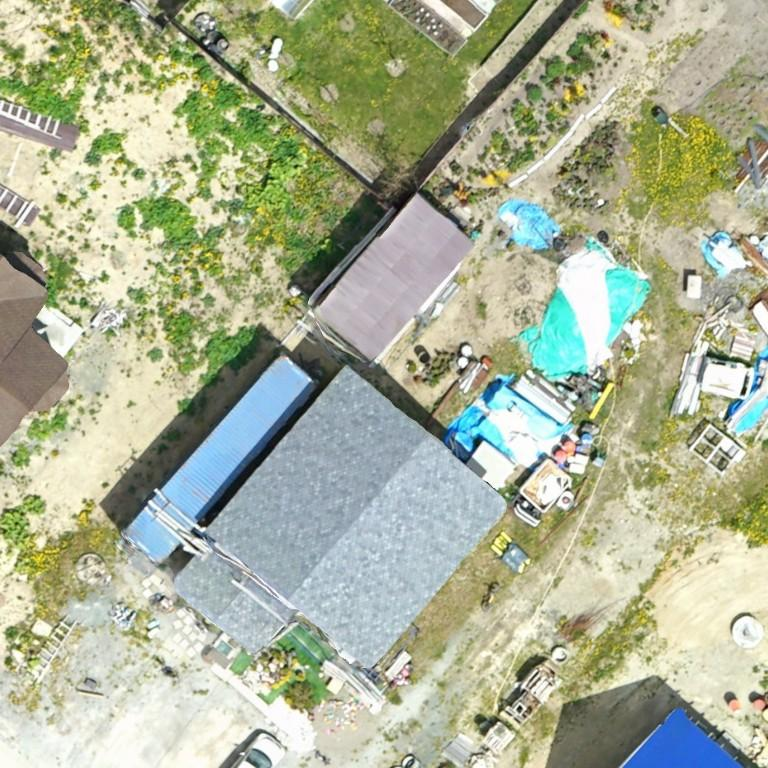hogweed: (139, 199, 217, 246), (0, 76, 74, 120), (205, 329, 258, 382), (240, 108, 266, 140), (90, 133, 121, 155), (214, 84, 240, 107), (275, 138, 299, 158), (119, 208, 134, 230)
